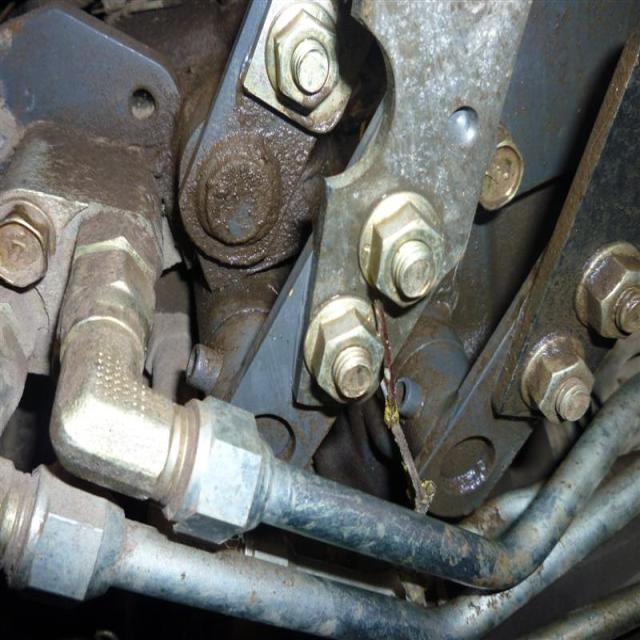bolt head: (466, 120, 526, 214), (2, 200, 52, 296)
bolt nut: (364, 196, 446, 315), (269, 6, 343, 118), (310, 306, 386, 412), (527, 335, 598, 434), (582, 244, 638, 346)
